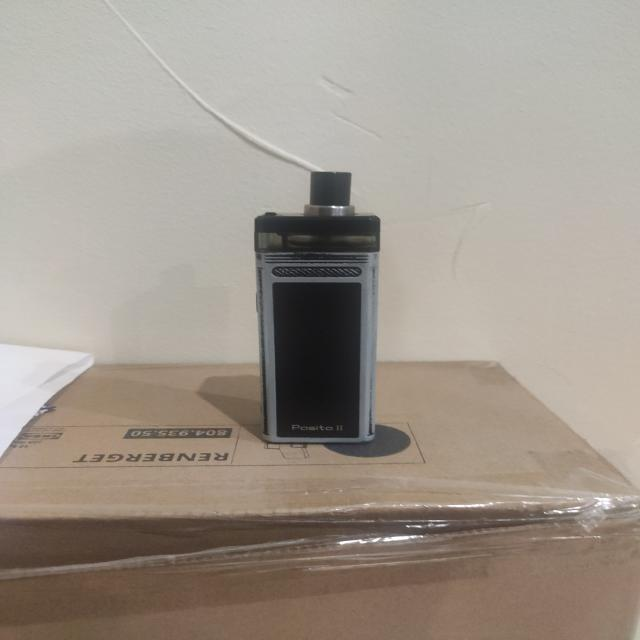cigaret: (247, 172, 381, 446)
